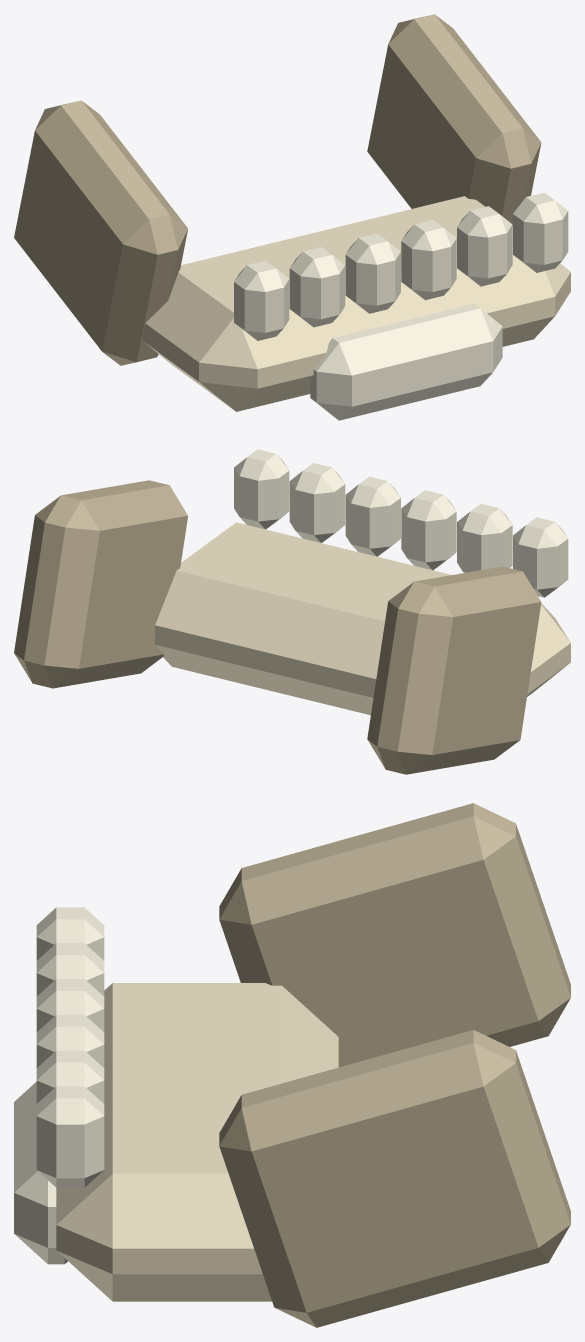
Rendered from mascella.glb.
3 views of the same model, one above another, from view 1: azimuth 30°, elevation 25°; view 2: azimuth 150°, elevation 25°; view 3: azimuth 270°, elevation 25° (orthographic). The views are drawn at different scales.
Parts seen in each view (by area): view 1: mascella2; view 2: mascella2; view 3: mascella2.
Boxes of the visible parts, <box> form: mascella2: <box>14,14,570,420</box>; mascella2: <box>14,449,570,774</box>; mascella2: <box>14,803,570,1327</box>.
Size of the model in its own units: 0.225 by 0.1157 by 0.1973.
